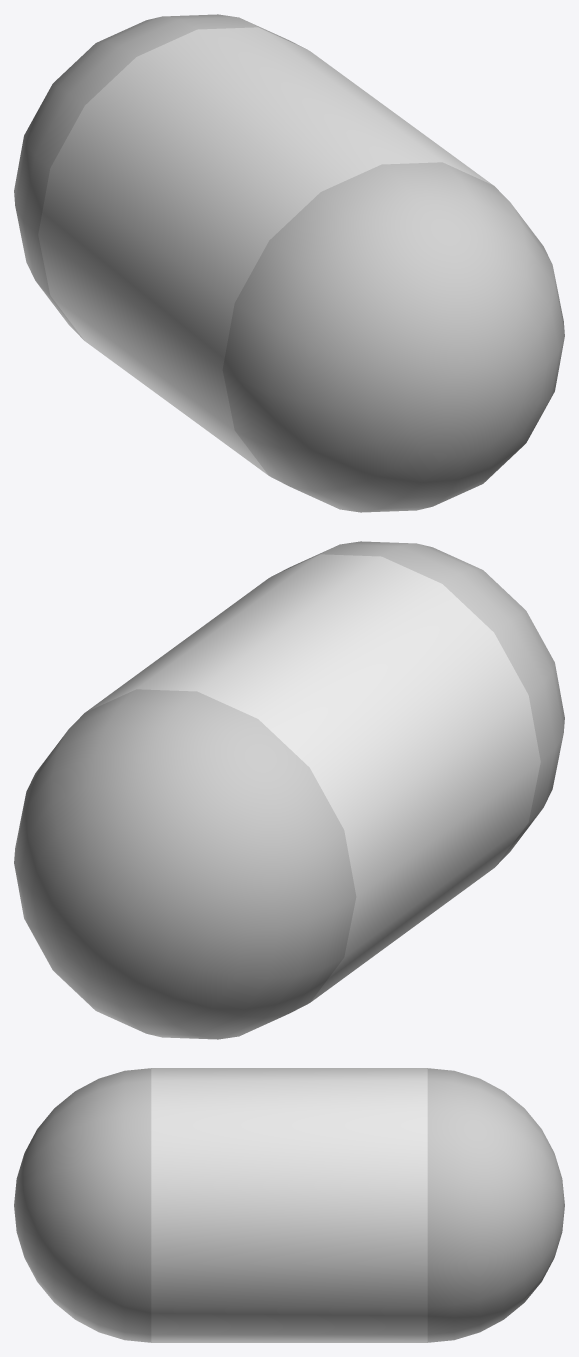
The model's file is bullet.obj.
3 views of the same model, one above another, from view 1: azimuth 30°, elevation 25°; view 2: azimuth 150°, elevation 25°; view 3: azimuth 270°, elevation 25° (orthographic). The views are drawn at different scales.
Visible parts, largest first — view 1: 円柱; view 2: 円柱; view 3: 円柱.
Part boxes in pixels (bbox=[...]): 円柱: bbox=[14, 14, 564, 512]; 円柱: bbox=[14, 541, 564, 1039]; 円柱: bbox=[14, 1068, 564, 1342].
Size of the model in its own units: 0.8 by 0.8 by 1.6.
